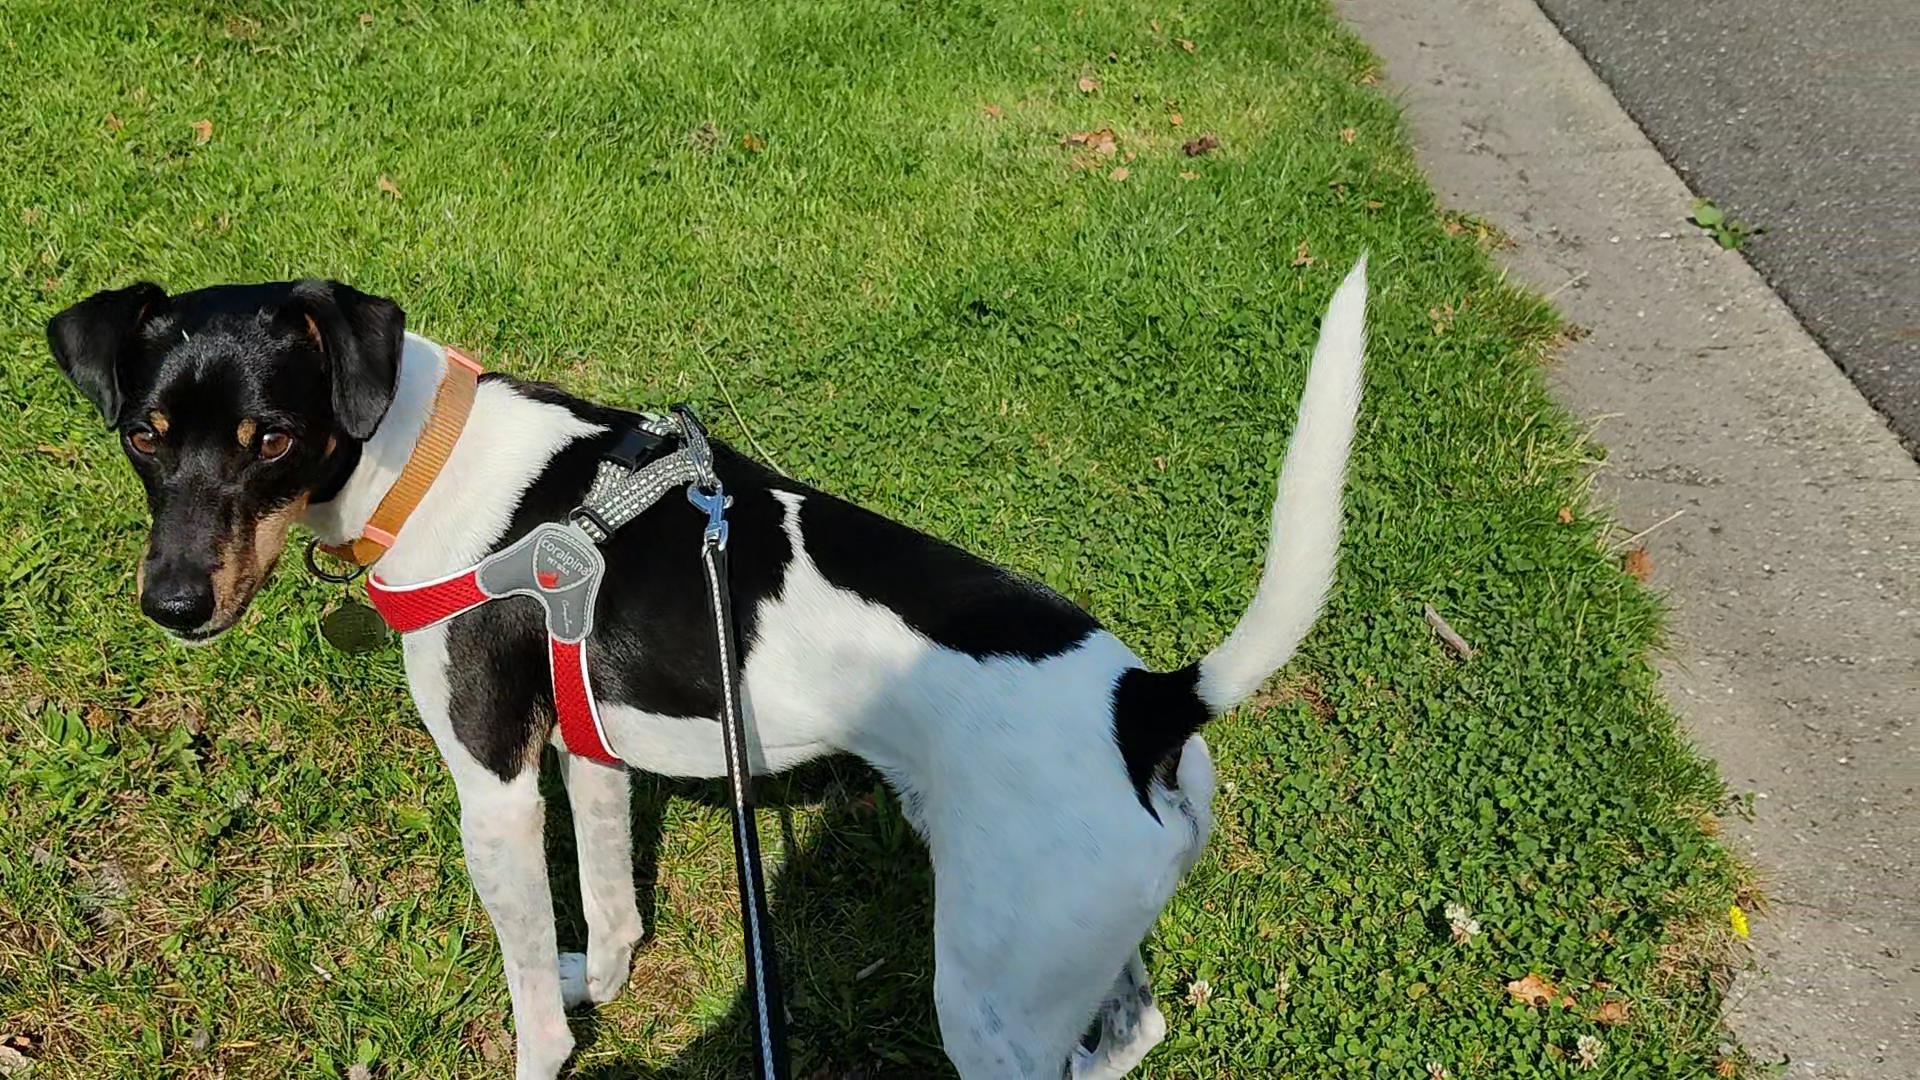Dog: (44, 243, 1379, 1079)
